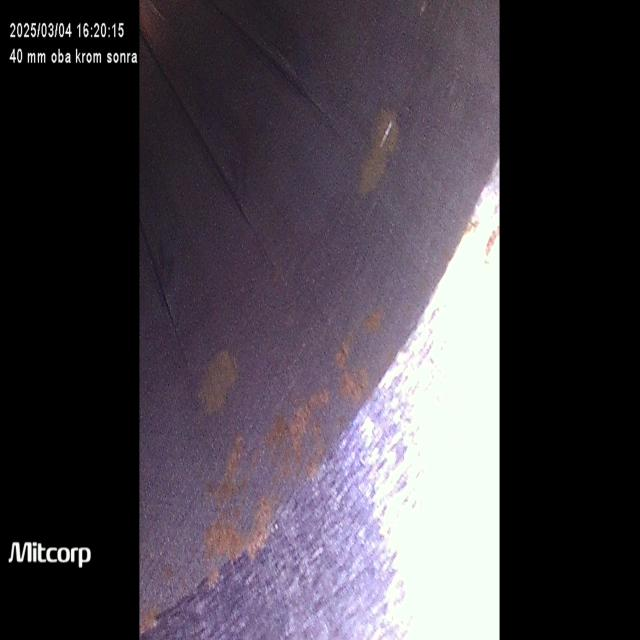hata_4.2: (188, 476, 287, 592), (329, 305, 400, 410), (345, 94, 411, 204), (275, 396, 344, 492), (193, 358, 255, 432), (139, 582, 161, 640)
